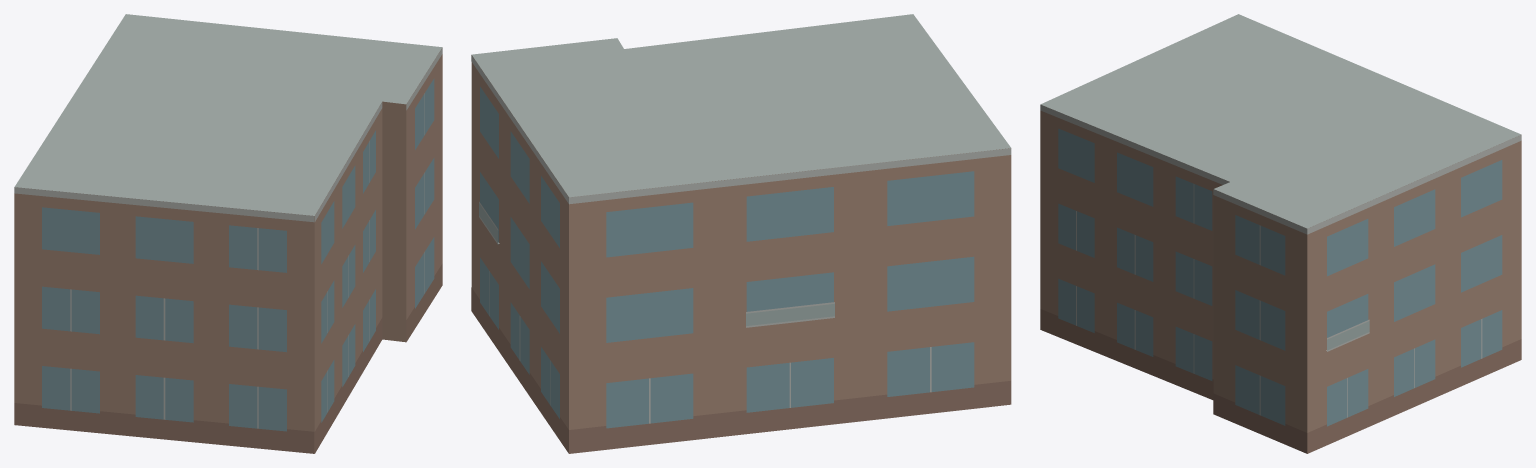
File: survey-upis-32912549.glb
The picture shows the model from 3 angles, left to right: view 1: azimuth 30°, elevation 25°; view 2: azimuth 150°, elevation 25°; view 3: azimuth 270°, elevation 25°; orthographic projection. The views are drawn at different scales.
Visible parts, largest first — view 1: survey-upis-32912549.tmp; view 2: survey-upis-32912549.tmp; view 3: survey-upis-32912549.tmp.
Boxes of the visible parts, <box> form: survey-upis-32912549.tmp: <box>14,14,442,453</box>; survey-upis-32912549.tmp: <box>471,14,1011,453</box>; survey-upis-32912549.tmp: <box>1040,14,1521,453</box>.
Size of the model in its own units: 18.7 by 9.15 by 17.72.
